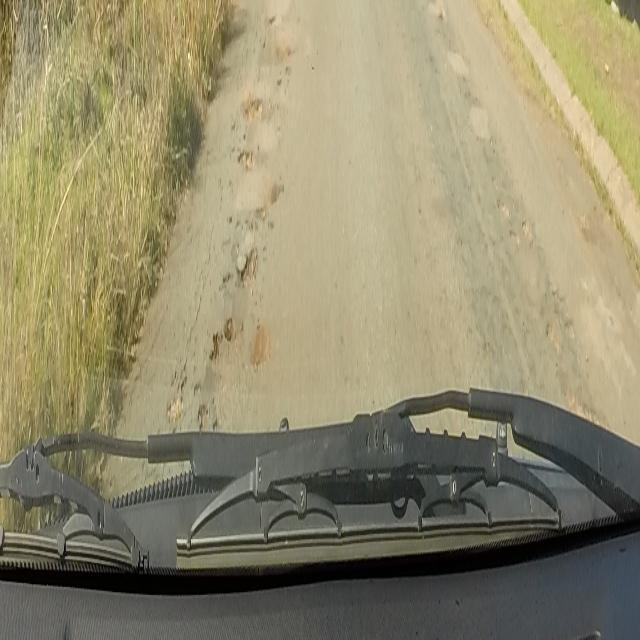pothole: (206, 226, 275, 370), (243, 88, 263, 122), (238, 146, 255, 170), (268, 8, 282, 29)
